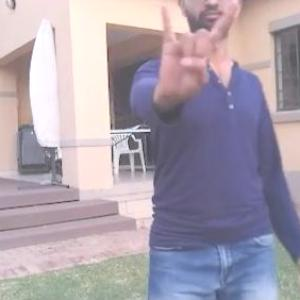takeoff-hand: (152, 0, 242, 112)
